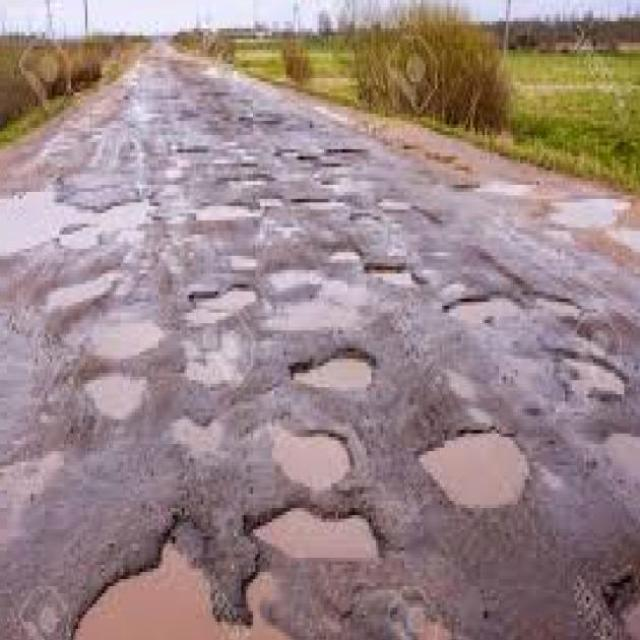Pathole: (75, 551, 276, 640), (418, 433, 530, 508), (255, 512, 378, 561), (274, 430, 350, 490), (556, 341, 627, 394), (291, 348, 378, 391), (87, 373, 147, 419), (102, 323, 163, 366), (187, 274, 253, 298), (366, 263, 418, 291), (447, 295, 496, 323)
